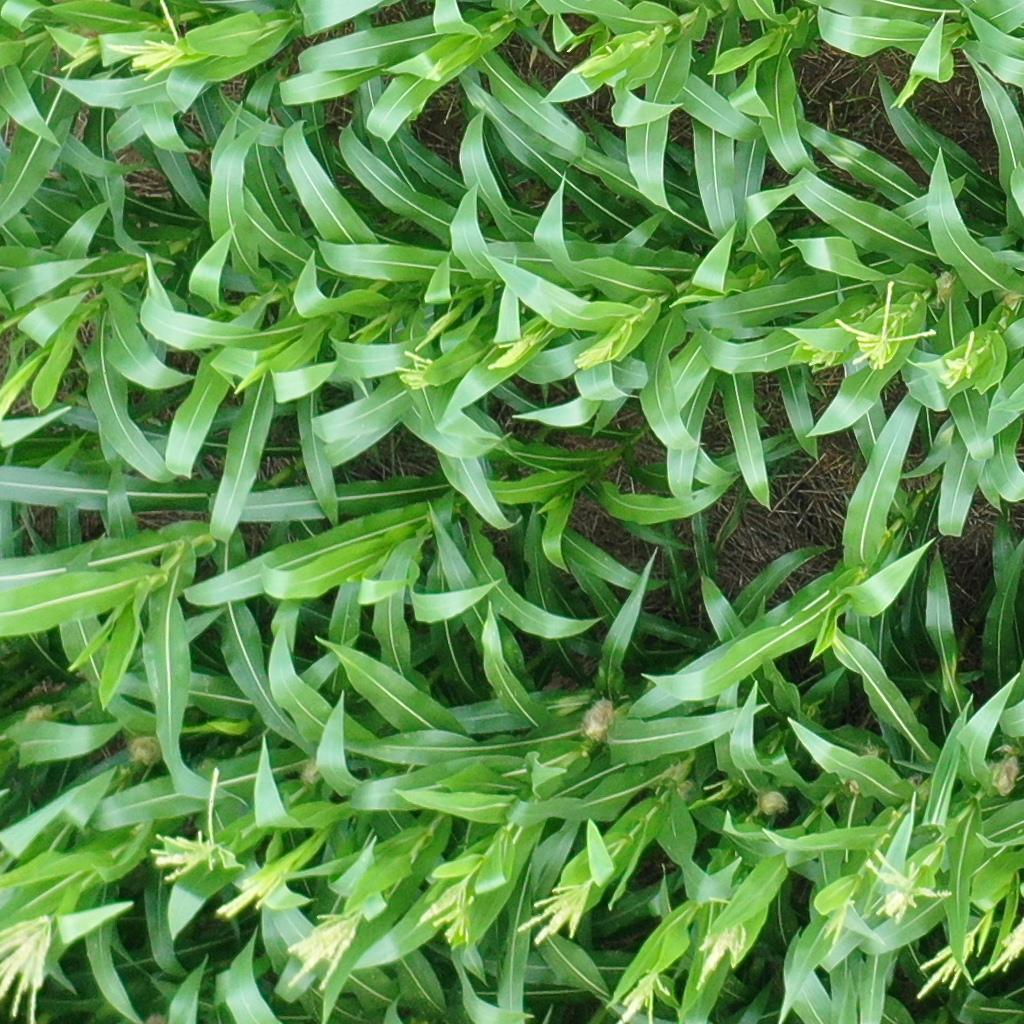Tassel: (831, 282, 936, 374), (152, 763, 228, 883), (280, 905, 368, 990), (111, 1, 197, 82), (1, 908, 61, 1024), (866, 846, 948, 925), (912, 923, 979, 997), (519, 877, 595, 941), (695, 923, 748, 990), (213, 873, 287, 918), (613, 965, 669, 1024), (975, 916, 1024, 983), (427, 885, 475, 949), (389, 343, 438, 395), (945, 330, 982, 386), (820, 899, 855, 953), (800, 341, 845, 377), (571, 43, 616, 77), (479, 340, 530, 368), (569, 342, 613, 369)
